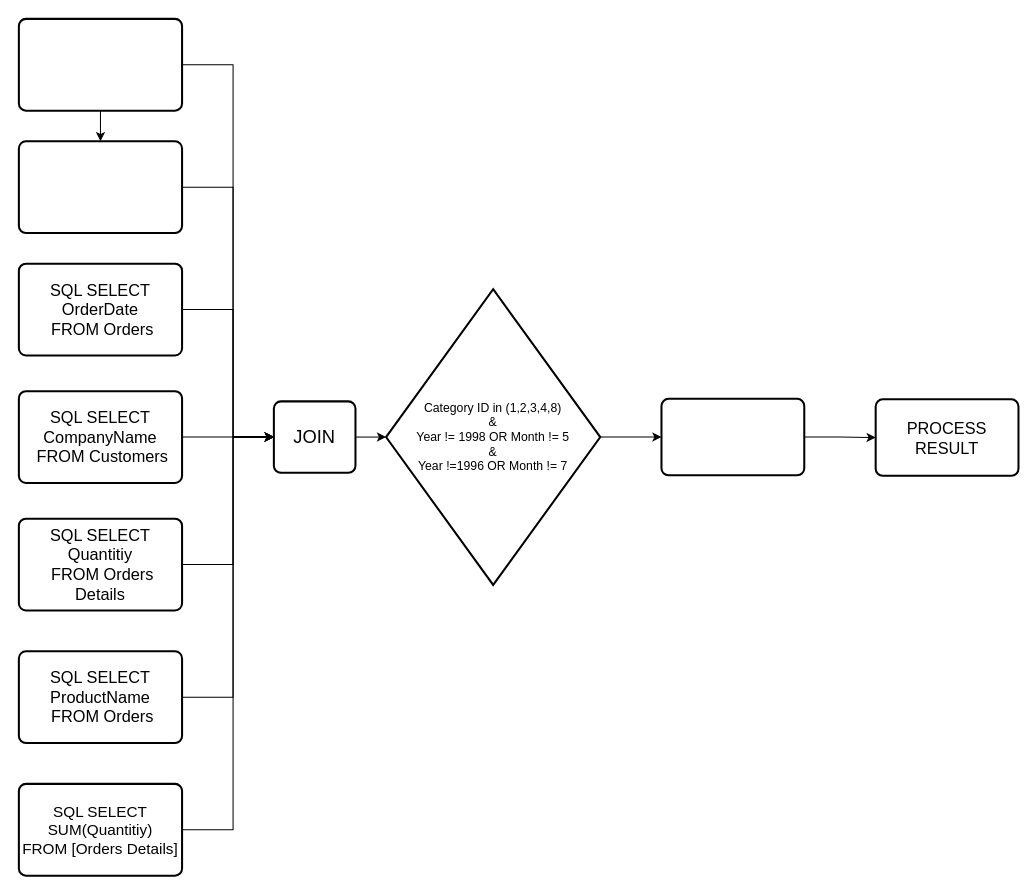
The diagram is 1036 pixels wide and 894 high, and some of its shapes have lost their labels. Each missing label, with the box of its shape:
ORDER BY CategoryID ASC, Year ASC, Month ASC: (660, 397, 805, 476)
SQL SELECT CategoryName FROM Category: (17, 17, 183, 111)
SQL SELECT ProductName FROM Products: (17, 140, 183, 234)
